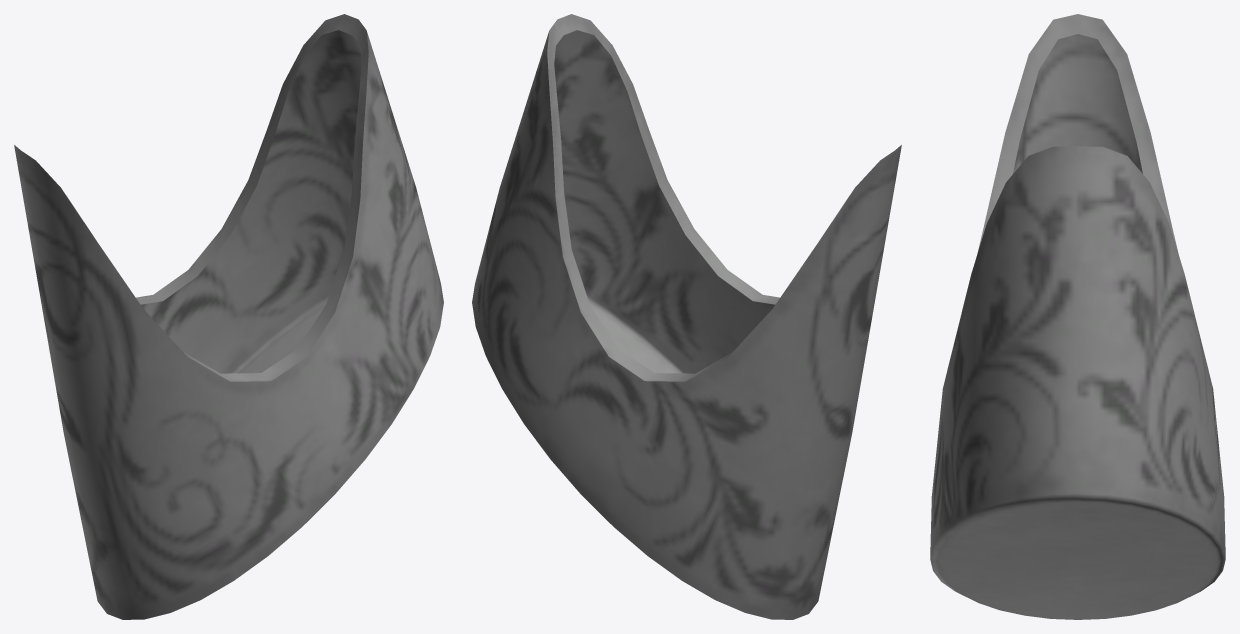
The model's file is wm_rivendell_sword_a01_silver_pommel.fbx.
3 renders of one model, left to right at view 1: azimuth 30°, elevation 25°; view 2: azimuth 150°, elevation 25°; view 3: azimuth 270°, elevation 25°, orthographic. The views are drawn at different scales.
Parts seen in each view (by area): view 1: wm_rivendell_sword_a01_silver_pommel; view 2: wm_rivendell_sword_a01_silver_pommel; view 3: wm_rivendell_sword_a01_silver_pommel.
Boxes of the visible parts, x1,y1,x2,y2 form: wm_rivendell_sword_a01_silver_pommel: (14, 14, 443, 619); wm_rivendell_sword_a01_silver_pommel: (472, 14, 901, 619); wm_rivendell_sword_a01_silver_pommel: (930, 14, 1225, 619).
Bounding box in the file's own units: 0.0526 × 0.0288 × 0.0654.
Materials: 1 (1 with a texture image).
